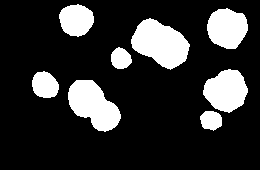cell: (131, 18, 189, 69), (68, 80, 120, 131), (203, 69, 247, 112), (207, 8, 247, 48), (59, 4, 93, 36), (32, 71, 58, 97), (111, 47, 131, 68), (200, 111, 221, 130)
